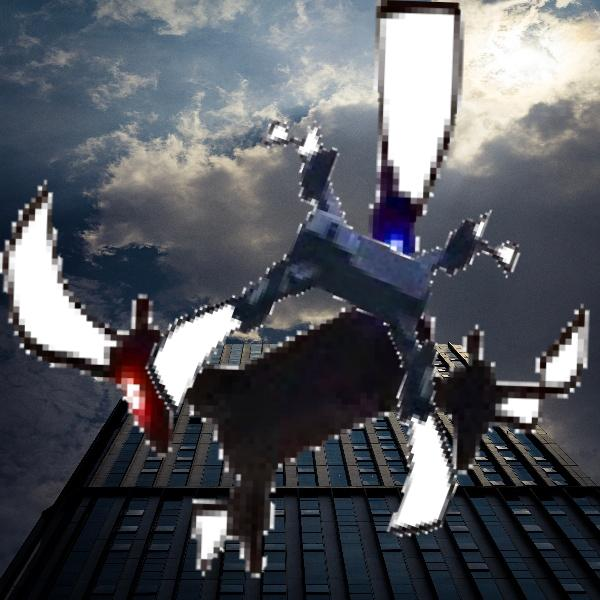drone: (163, 134, 541, 512)
